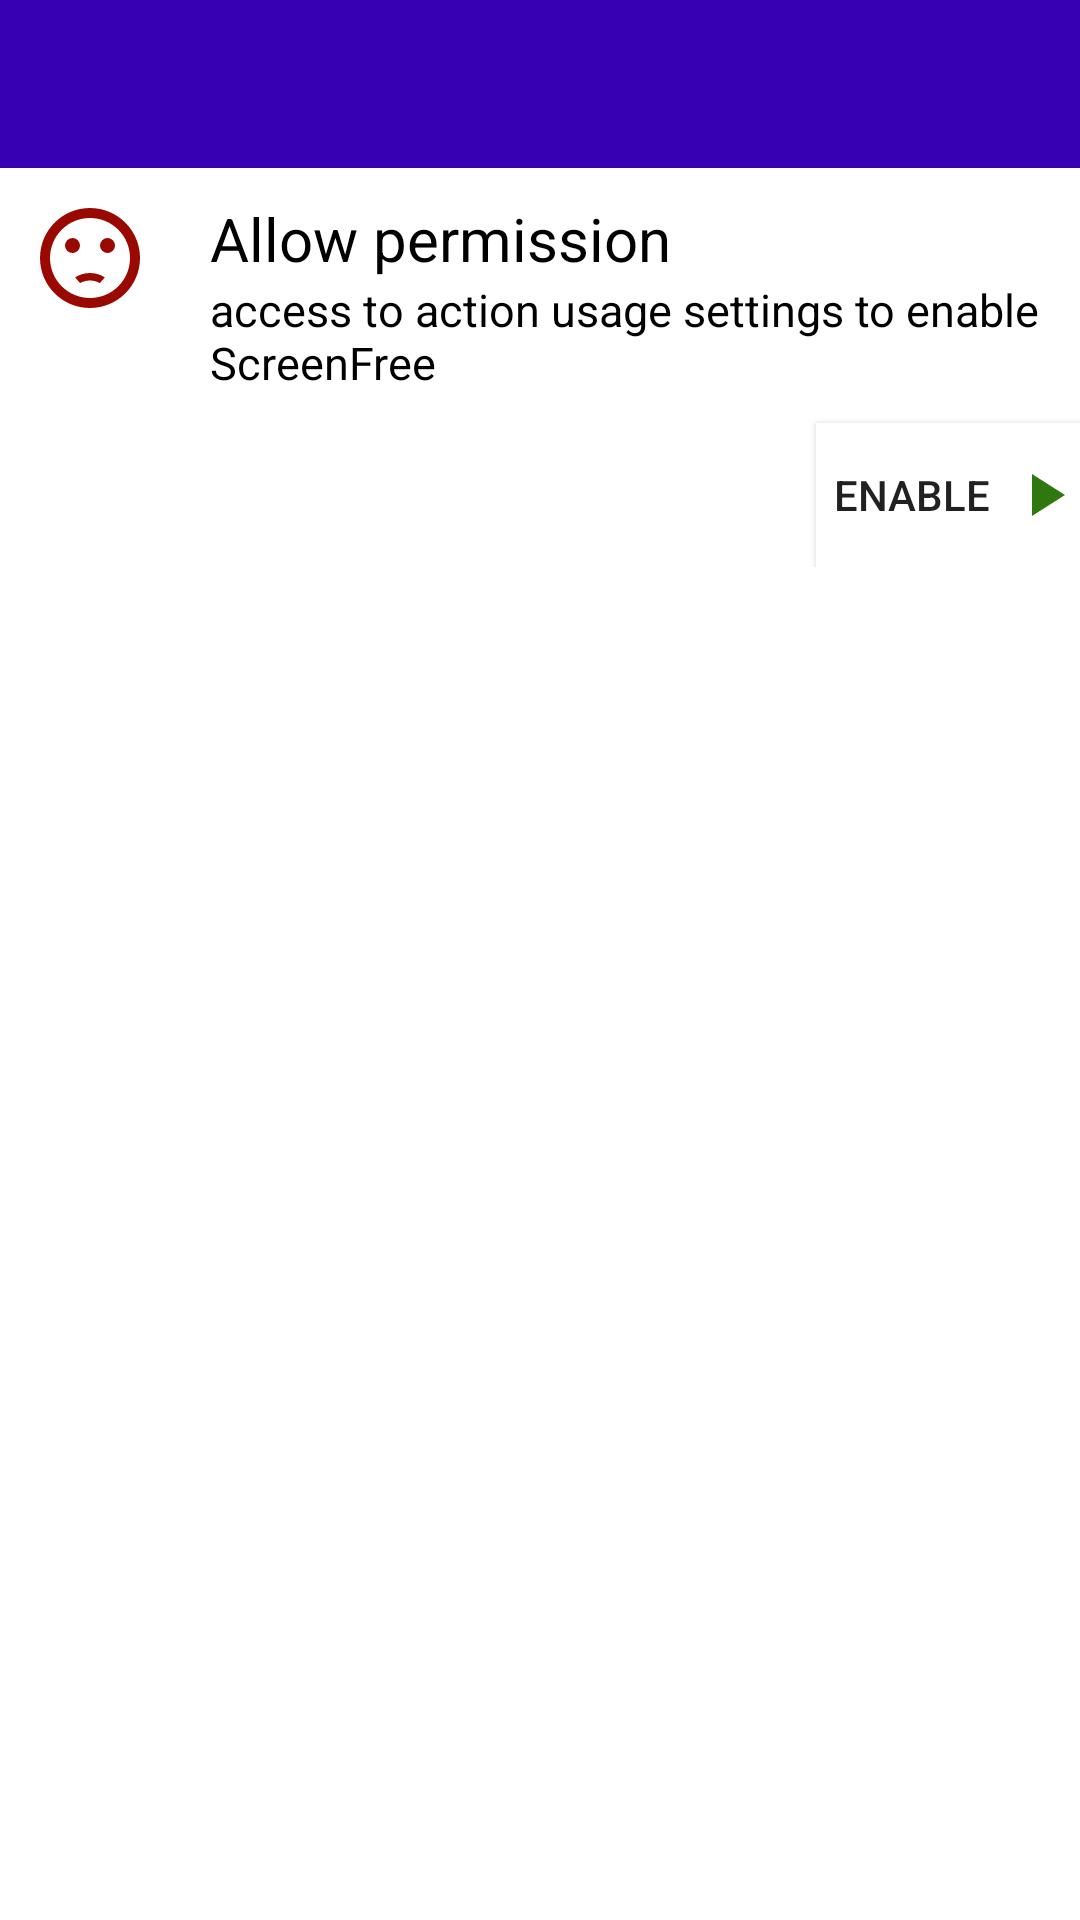

Icons on this 1080*1920 Android screen, each with its box as (x1, y1, x2, y2):
sentiment dissatisfied: (40, 208, 140, 308)
